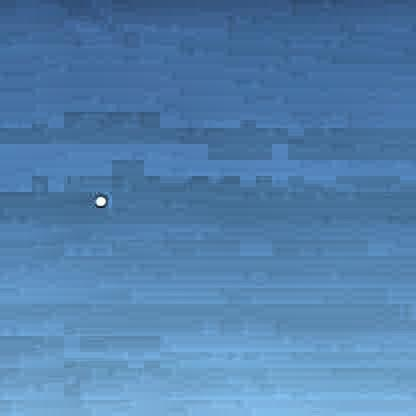golfball: (92, 191, 106, 205)
